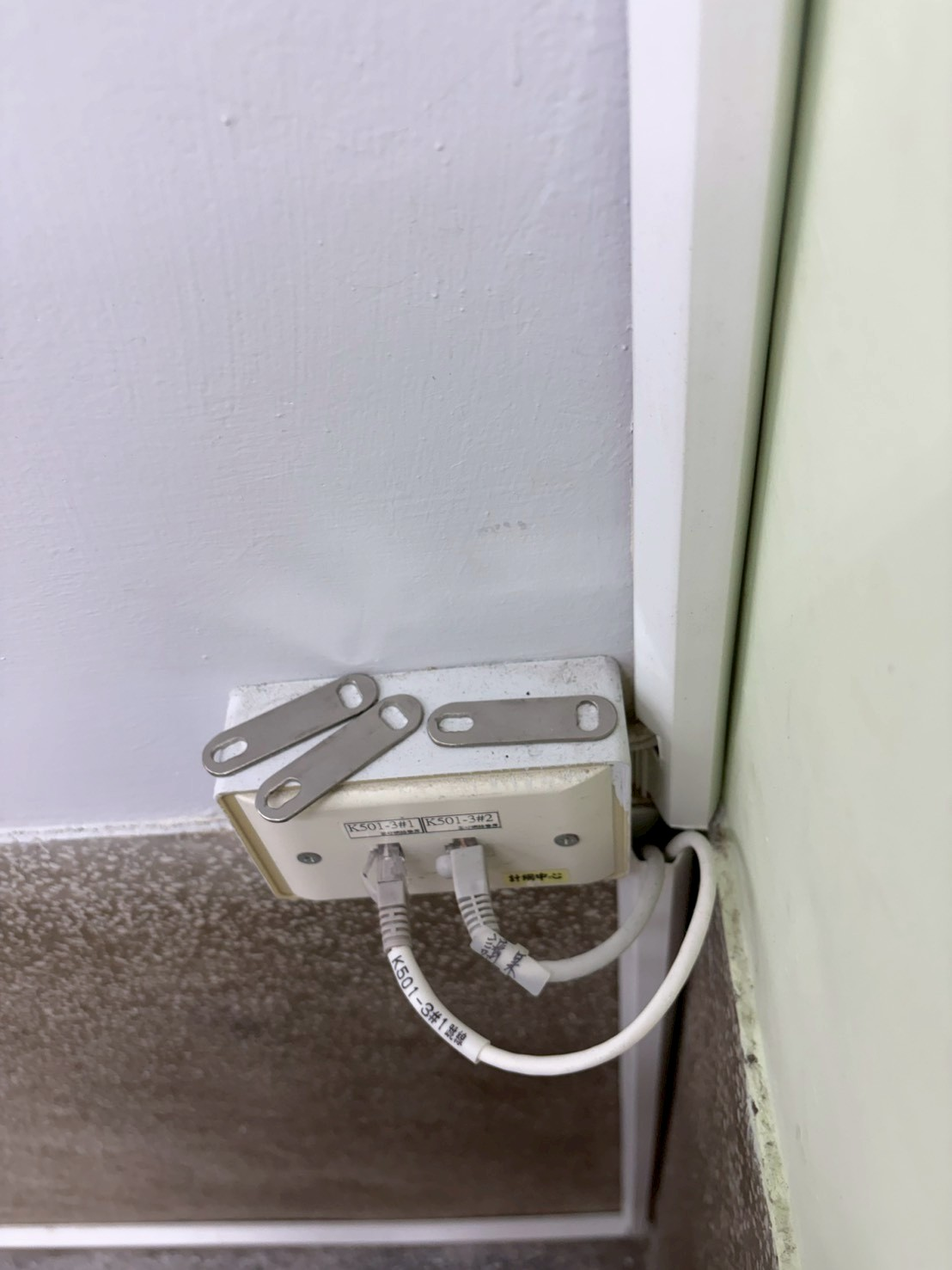Fe: (273, 684, 430, 836), (166, 680, 386, 771), (412, 689, 609, 753)
